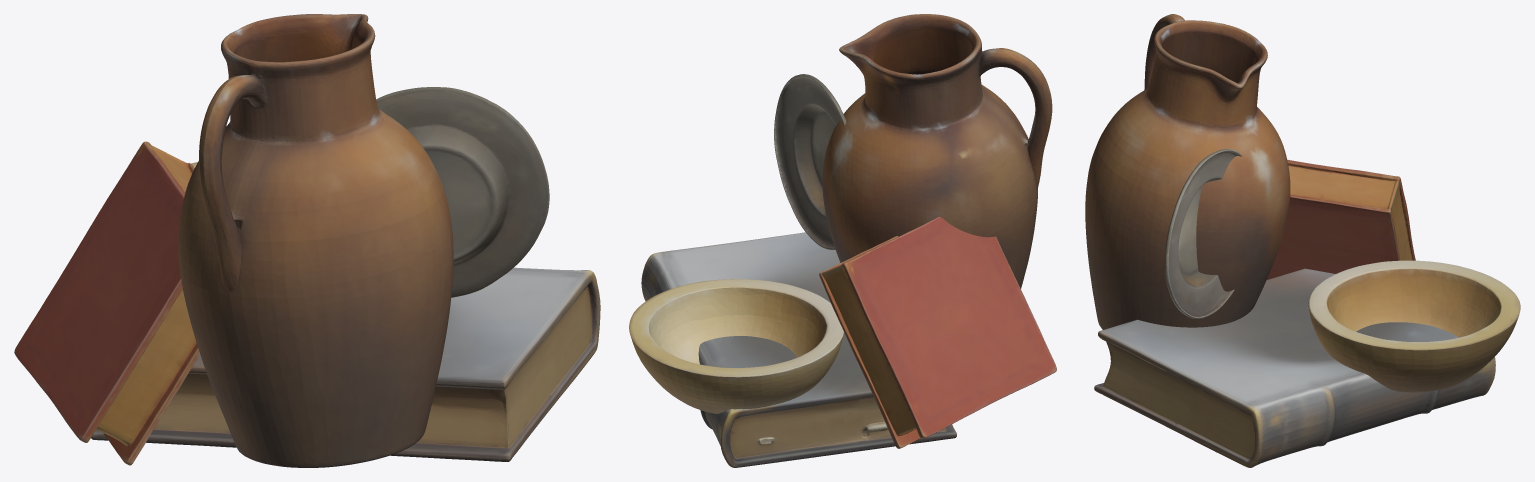
File: sam3d.glb
3 views of the same model, side by side, from view 1: azimuth 30°, elevation 25°; view 2: azimuth 150°, elevation 25°; view 3: azimuth 270°, elevation 25° (orthographic). The views are drawn at different scales.
Parts seen in each view (by area): view 1: object_03, object_01, object_04, object_00; view 2: object_03, object_01, object_04, object_02, object_00; view 3: object_03, object_04, object_02, object_01, object_00.
Part boxes in pixels (bbox=[...]): object_03: bbox=[178, 14, 453, 467]; object_01: bbox=[14, 141, 199, 465]; object_04: bbox=[91, 267, 600, 461]; object_00: bbox=[376, 87, 549, 297]; object_03: bbox=[822, 14, 1052, 288]; object_01: bbox=[819, 217, 1056, 448]; object_04: bbox=[641, 232, 956, 467]; object_02: bbox=[629, 279, 844, 413]; object_00: bbox=[774, 74, 846, 249]; object_03: bbox=[1085, 14, 1290, 329]; object_04: bbox=[1094, 268, 1495, 467]; object_02: bbox=[1308, 260, 1520, 392]; object_01: bbox=[1267, 159, 1415, 279]; object_00: bbox=[1165, 149, 1242, 318].
Bounding box in the file's own units: 0.9049 × 0.7293 × 0.8612.
